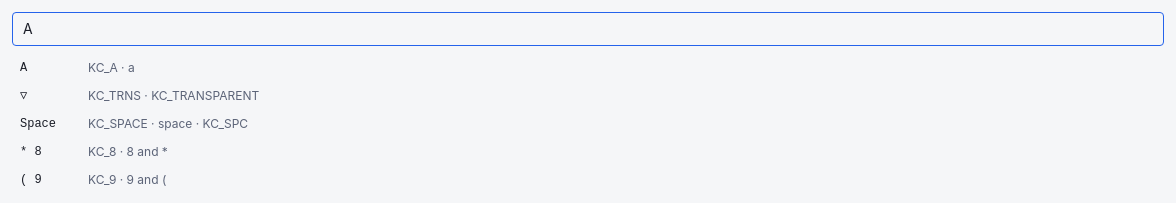
Test: PopoverTabKey — Key Label pack remap in search (issue #294) › an identity remapLabel behaves exactly like no pack — raw label, no remap styling
Replace the text in the field with test id "popover-search-input" with "(" at (588, 29), box [12,12,1164,46]
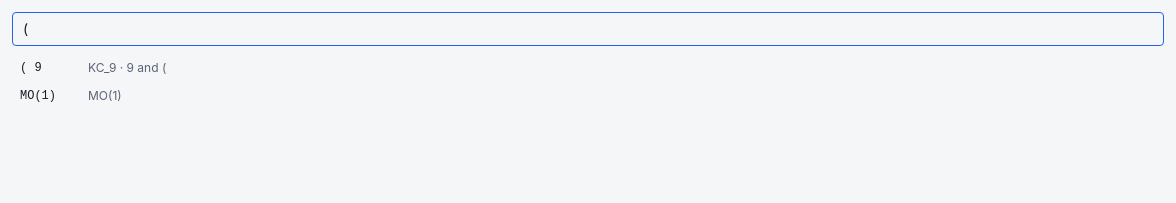
Expected: the button with test id "popover-result-KC_9" is shown, [12,54,1164,82]
Expected: the button with test id "popover-result-KC_8" is gone
